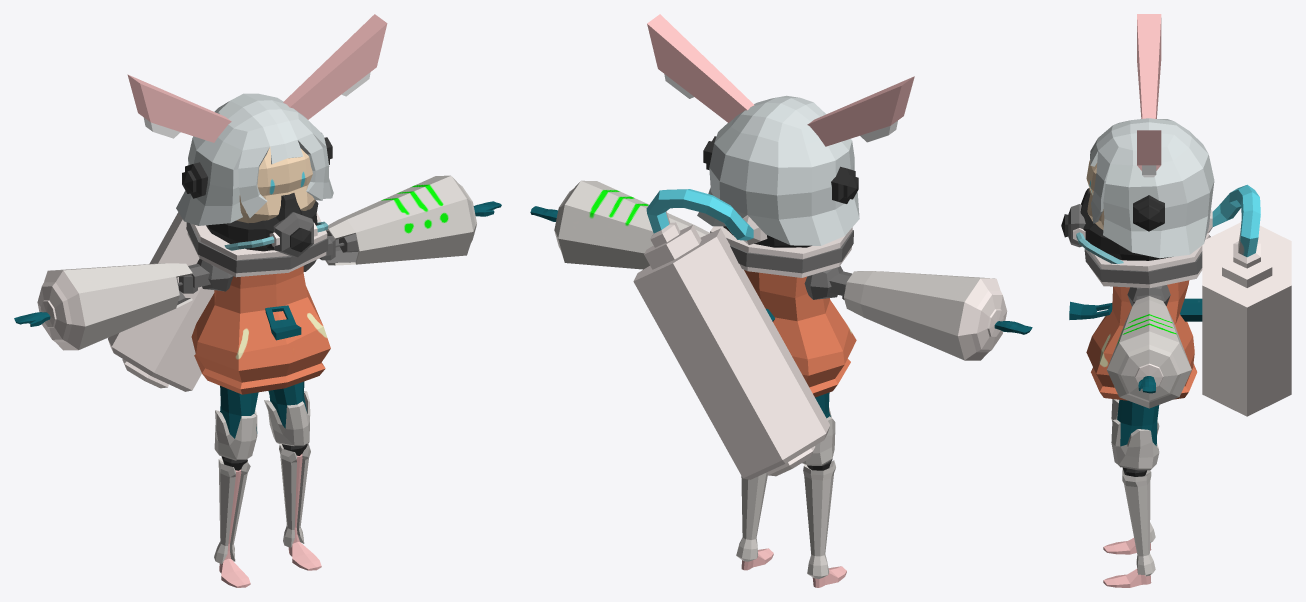
File: ch_interloper.fbx
3 renders of one model, left to right at view 1: azimuth 30°, elevation 25°; view 2: azimuth 150°, elevation 25°; view 3: azimuth 270°, elevation 25°, orthographic. The views are drawn at different scales.
Visible parts, largest first — view 1: ch_interloper; view 2: ch_interloper; view 3: ch_interloper.
Boxes of the visible parts, box(x1,y1,x2,y2) form: ch_interloper: box(14, 14, 501, 587); ch_interloper: box(530, 14, 1032, 587); ch_interloper: box(1061, 14, 1291, 587).
Bounding box in the file's own units: 5.56 × 5.62 × 2.38.
